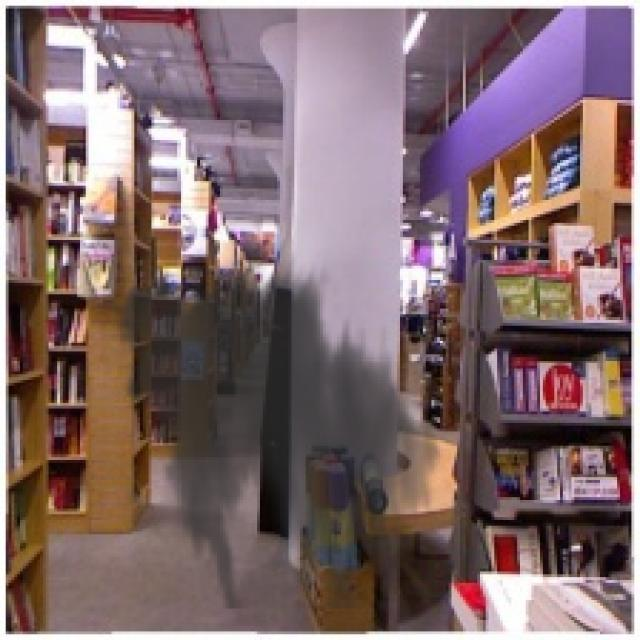smoke: (100, 248, 451, 608)
